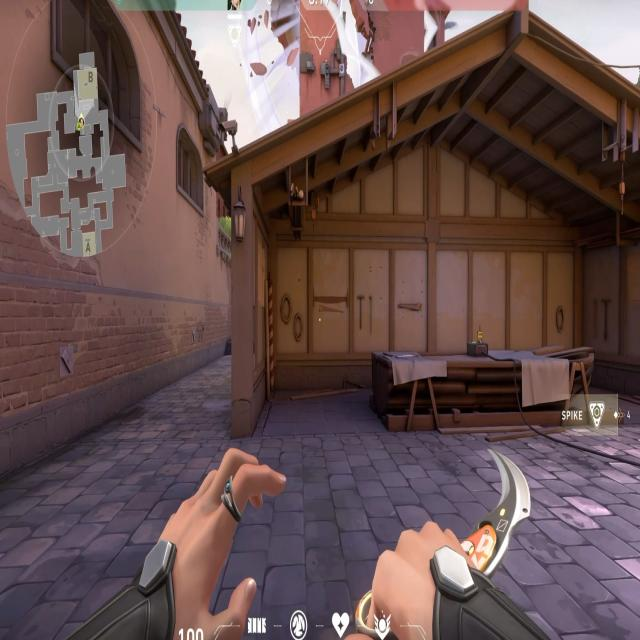B_Garage_Left: (227, 161, 478, 454)
Throwables: (48, 0, 147, 154), (174, 120, 206, 220)
